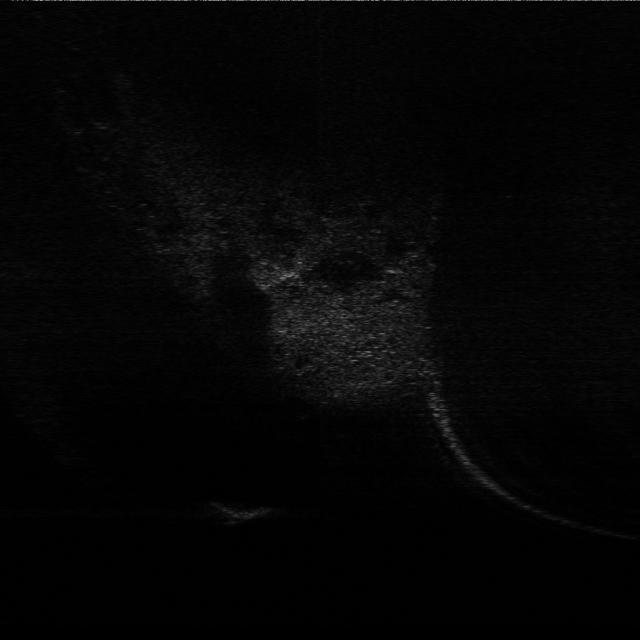square cage: (216, 490, 278, 526)
